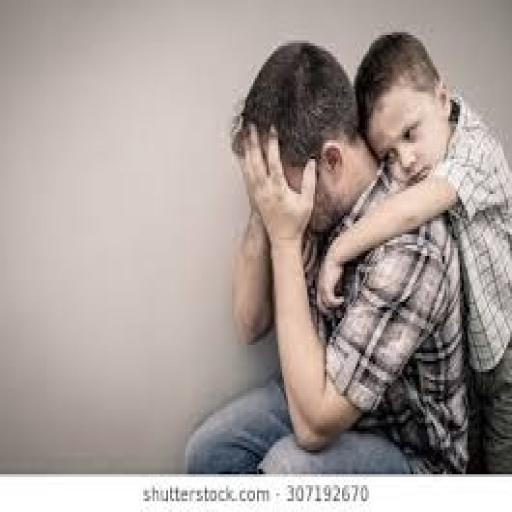hugging: (184, 30, 510, 474)
